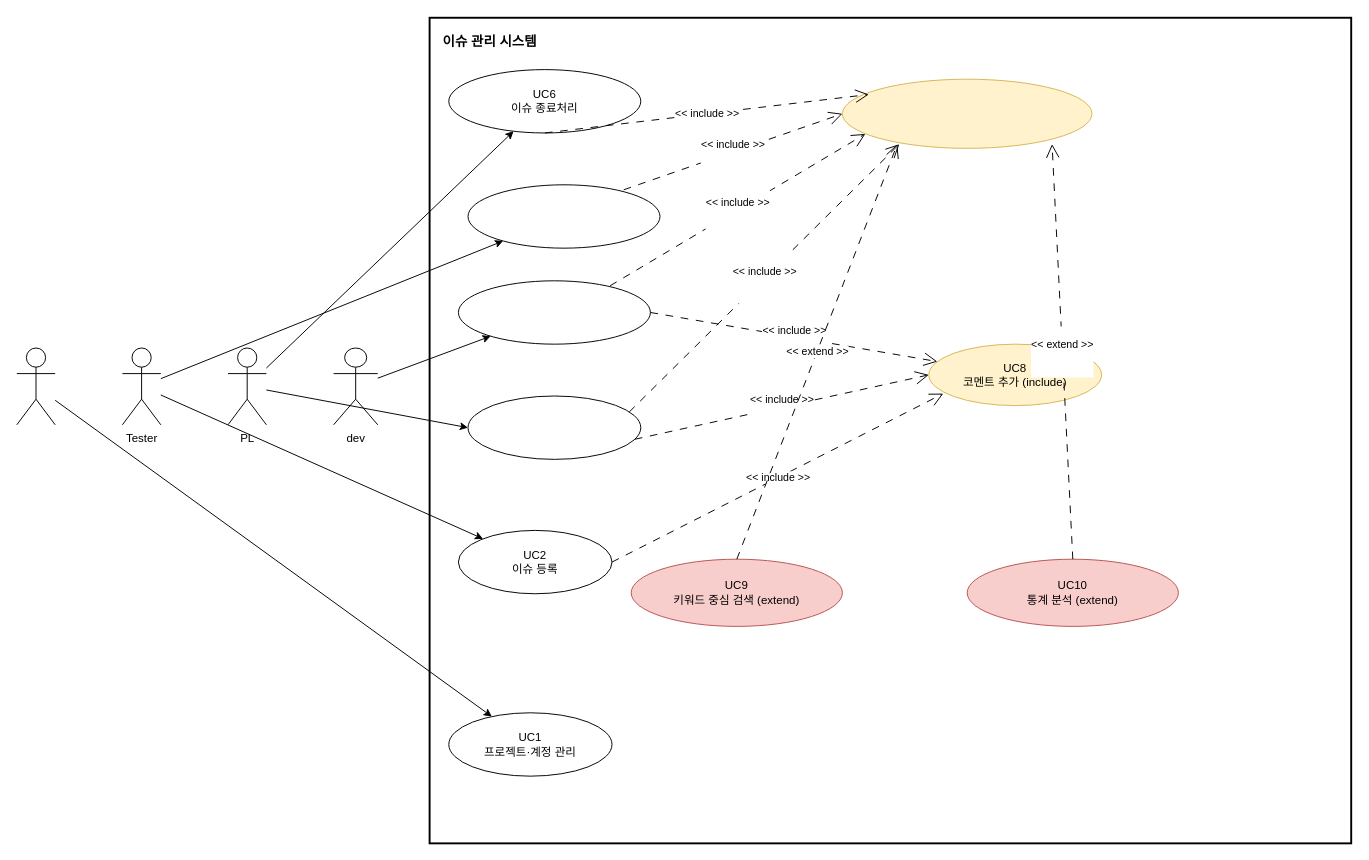
The diagram is 1369 pixels wide and 860 high, and some of its shapes have lost their labels. Each missing label, with the box of its shape:
Admin: (16, 347, 55, 425)
UC3 이슈 배정: (467, 395, 641, 459)
UC4 배정된 이슈 해결: (457, 280, 650, 344)
UC5 수정된 이슈 확인: (467, 184, 660, 248)
UC7 이슈 브라우즈 (include): (841, 78, 1092, 148)
